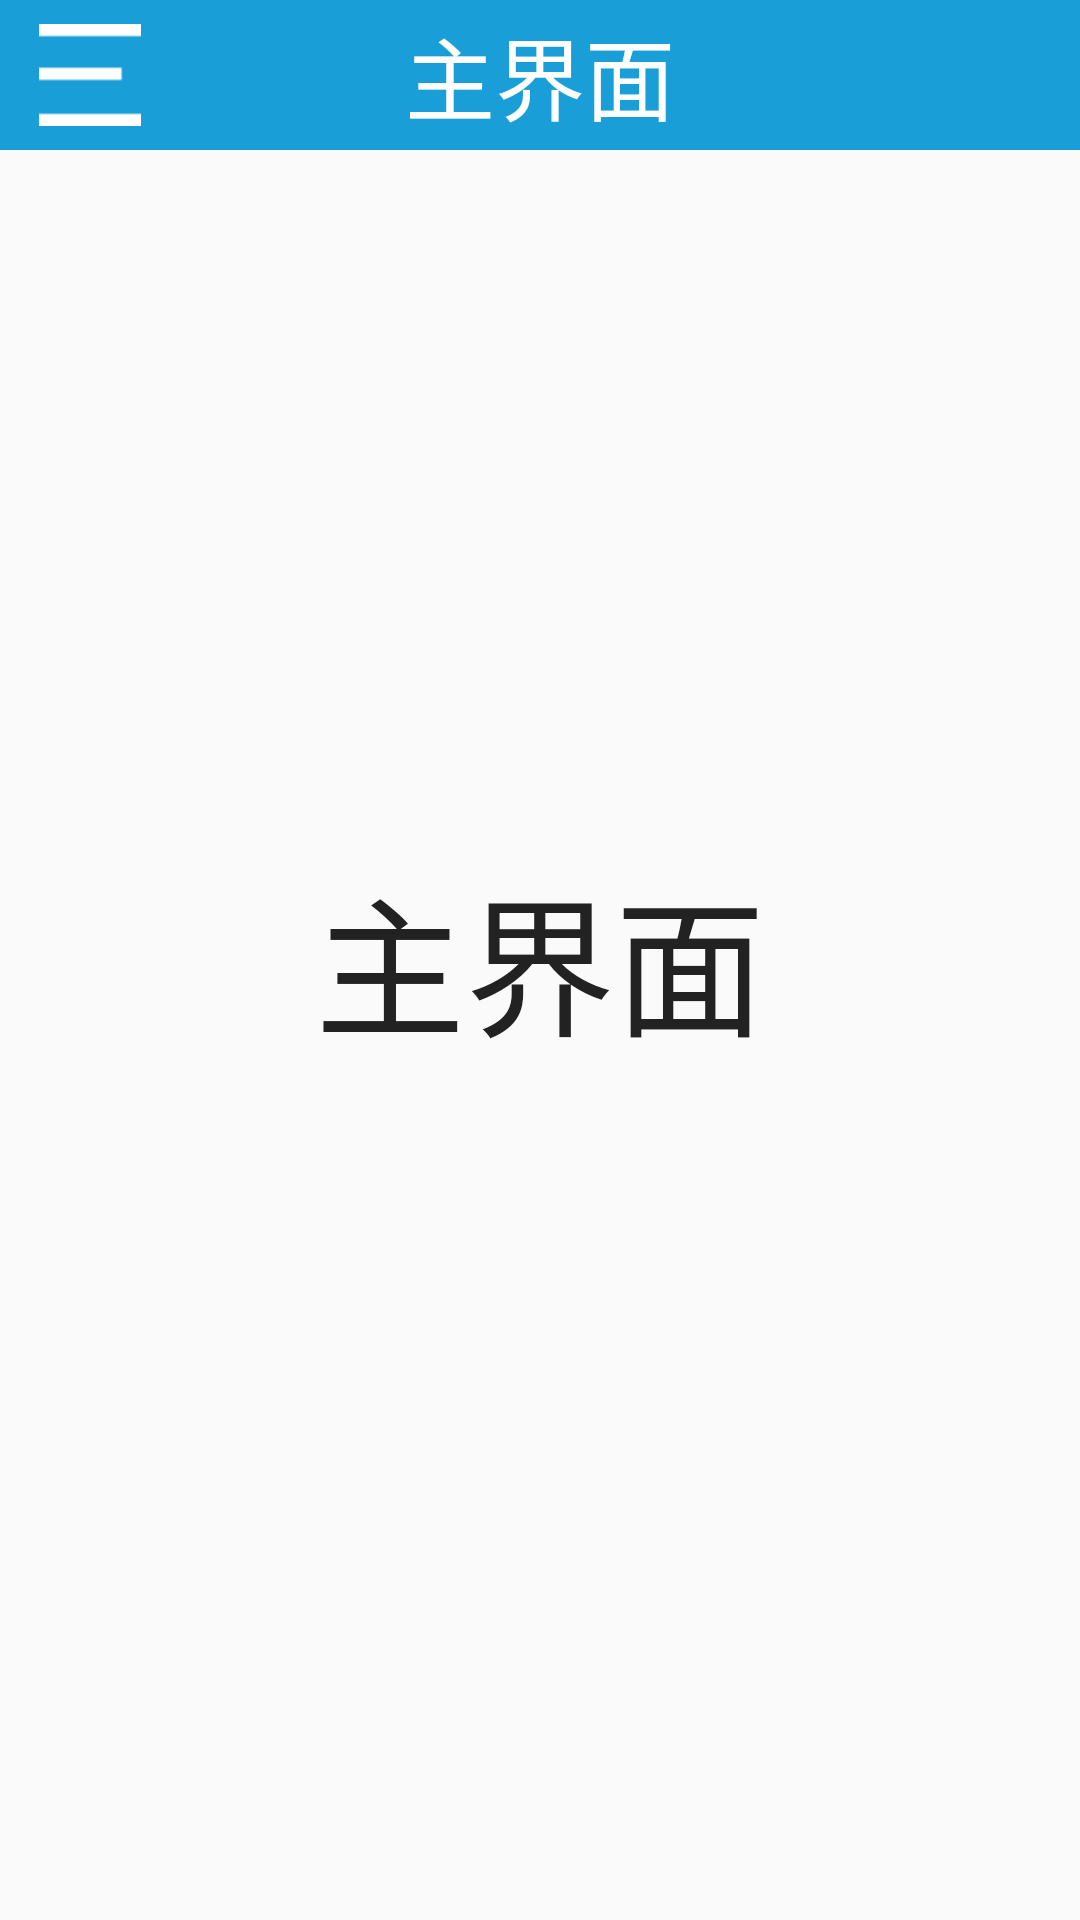

Locate icon controls on the screen. Image size 1080w x 1920h, boxes as Rect(x1, y1, x2, y2).
list: Rect(39, 24, 141, 126)
